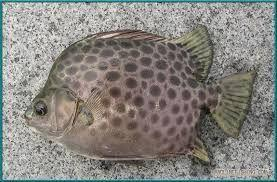Scat Fish: (24, 15, 260, 166)
